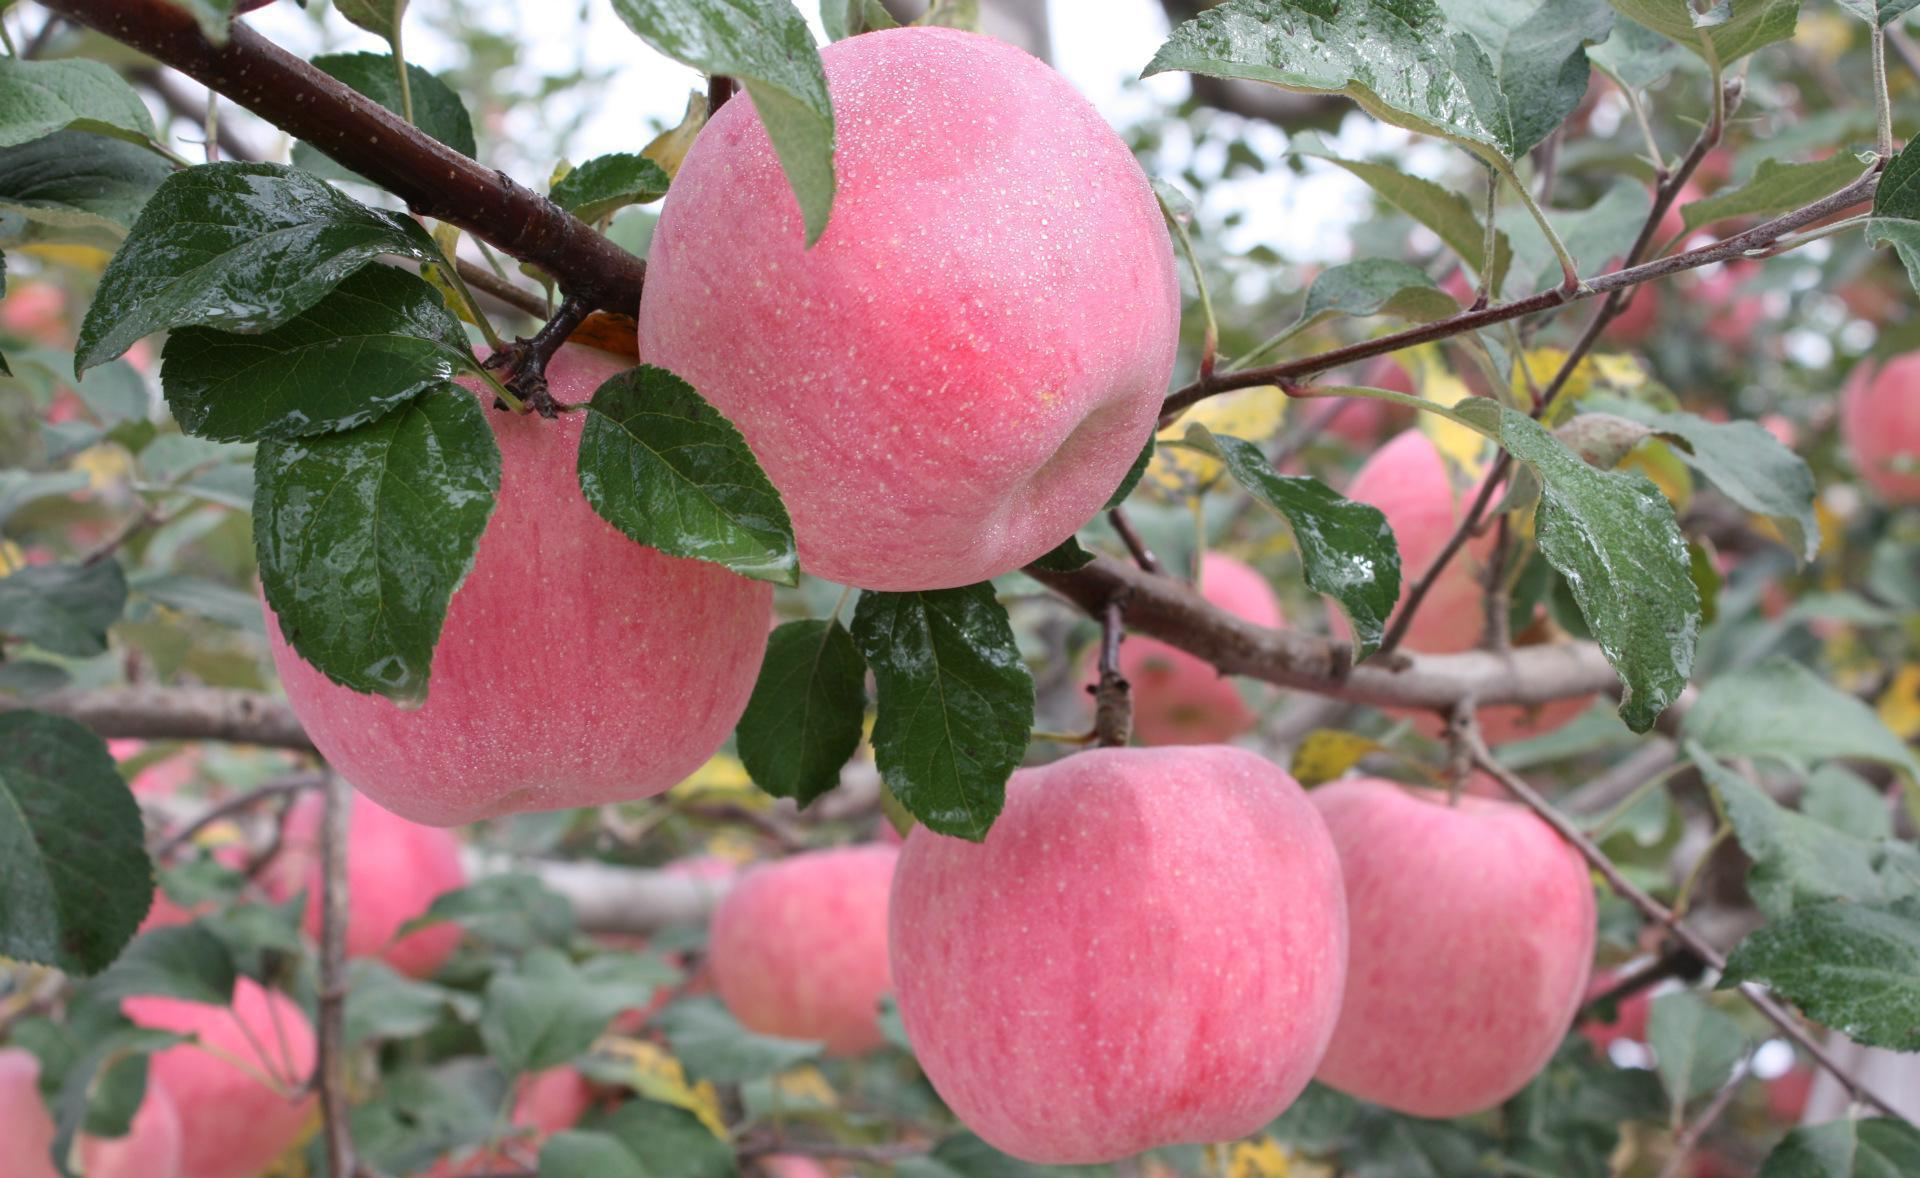apple: (628, 26, 1185, 597), (266, 340, 773, 819), (885, 747, 1345, 1155), (1304, 776, 1598, 1116)
